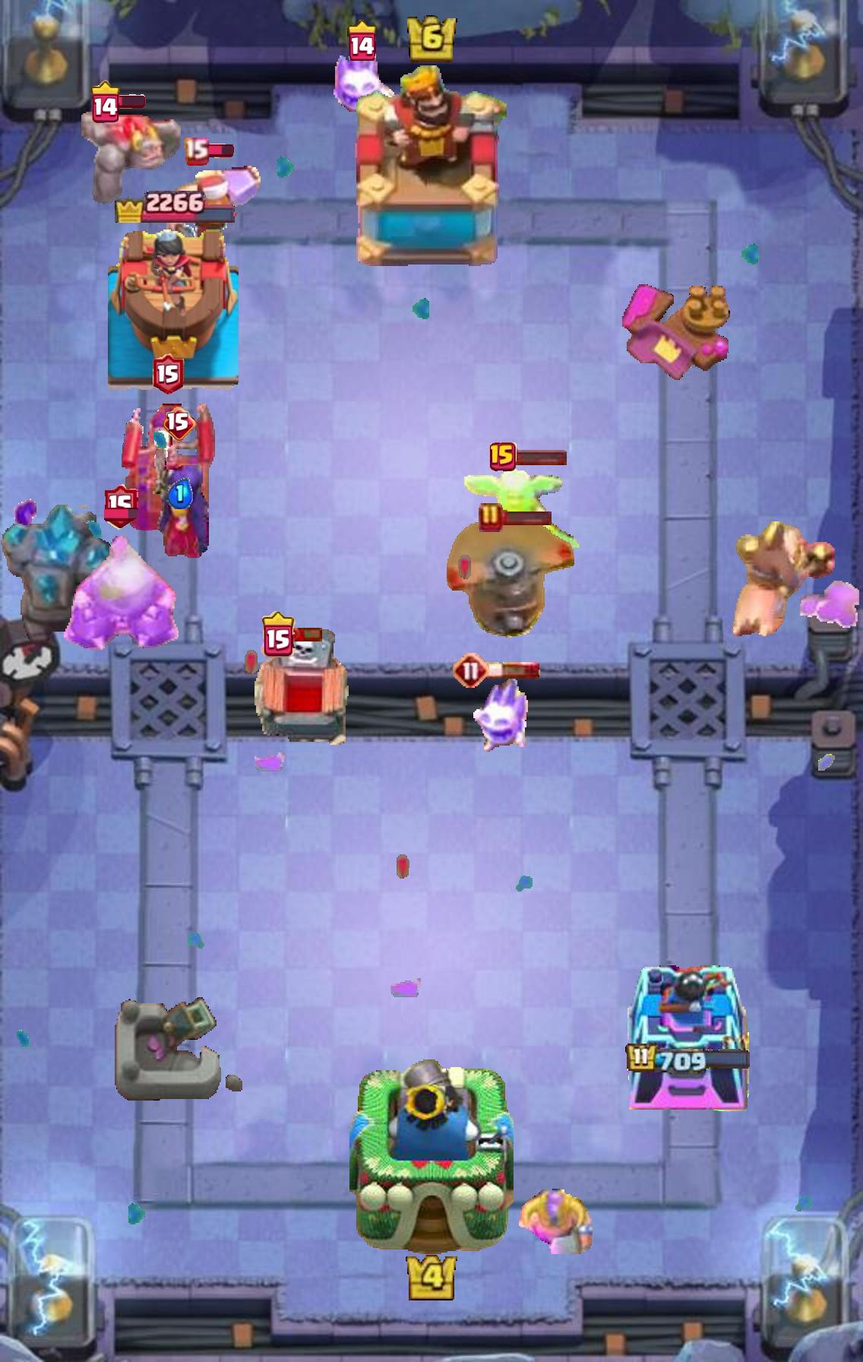elixir: (166, 478, 193, 510)
hog-rider: (729, 521, 836, 643)
